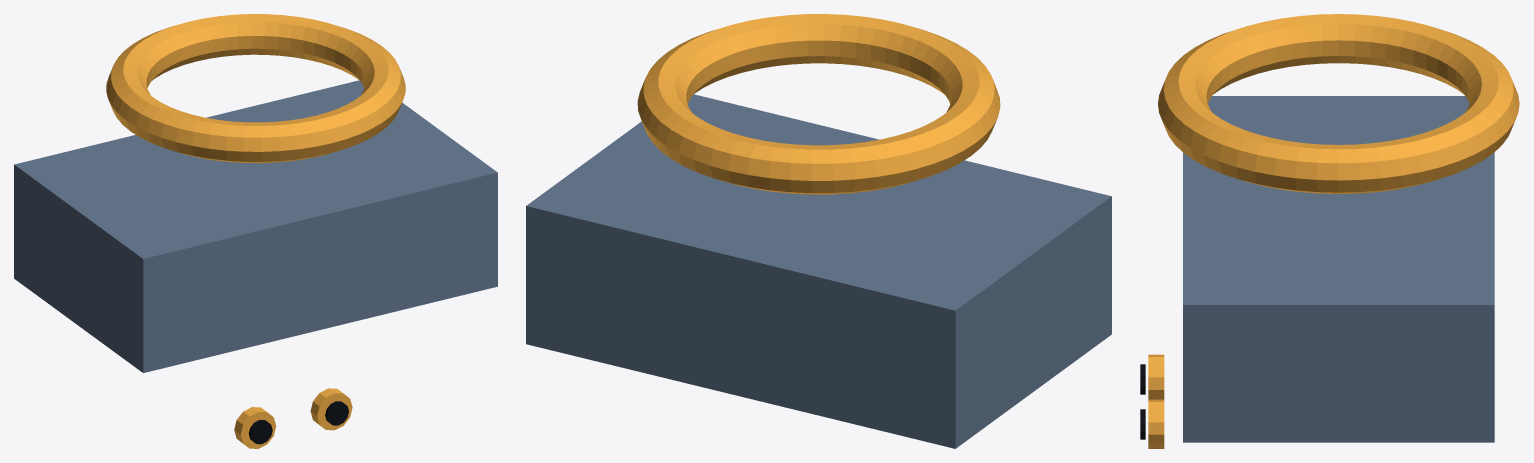
File: 81_L90_ThrusterThrustCalibrationBalance.fbx
The picture shows the model from 3 angles, left to right: view 1: azimuth 30°, elevation 25°; view 2: azimuth 150°, elevation 25°; view 3: azimuth 270°, elevation 25°; orthographic projection. The views are drawn at different scales.
Parts seen in each view (by area): view 1: L90_ThrusterThrustCalibrationBalance, L90_ThrusterThrustCalibrationBalance_Part_0001, L90_ThrusterThrustCalibrationBalance_Part_0004, L90_ThrusterThrustCalibrationBalance_Part_0002; view 2: L90_ThrusterThrustCalibrationBalance, L90_ThrusterThrustCalibrationBalance_Part_0001; view 3: L90_ThrusterThrustCalibrationBalance, L90_ThrusterThrustCalibrationBalance_Part_0001, L90_ThrusterThrustCalibrationBalance_Part_0004, L90_ThrusterThrustCalibrationBalance_Part_0002.
Part boxes in pixels (<box>): L90_ThrusterThrustCalibrationBalance: <box>14,80,497,372</box>; L90_ThrusterThrustCalibrationBalance_Part_0001: <box>106,14,405,163</box>; L90_ThrusterThrustCalibrationBalance_Part_0004: <box>310,388,352,430</box>; L90_ThrusterThrustCalibrationBalance_Part_0002: <box>234,407,275,448</box>; L90_ThrusterThrustCalibrationBalance: <box>526,94,1111,448</box>; L90_ThrusterThrustCalibrationBalance_Part_0001: <box>637,14,1000,194</box>; L90_ThrusterThrustCalibrationBalance: <box>1183,96,1494,442</box>; L90_ThrusterThrustCalibrationBalance_Part_0001: <box>1158,14,1519,193</box>; L90_ThrusterThrustCalibrationBalance_Part_0004: <box>1148,399,1164,448</box>; L90_ThrusterThrustCalibrationBalance_Part_0002: <box>1148,354,1164,399</box>.
Bounding box in the file's own units: 130 × 106 × 99.8.
